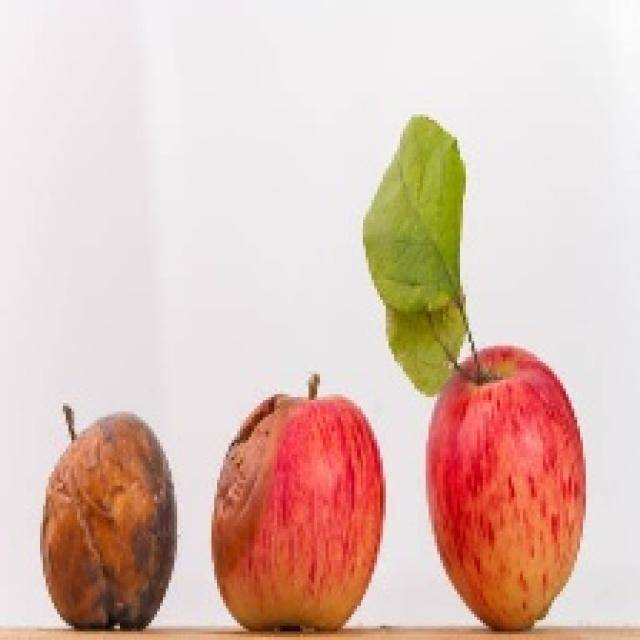rotten_apple: (212, 396, 382, 628), (46, 414, 175, 627)
